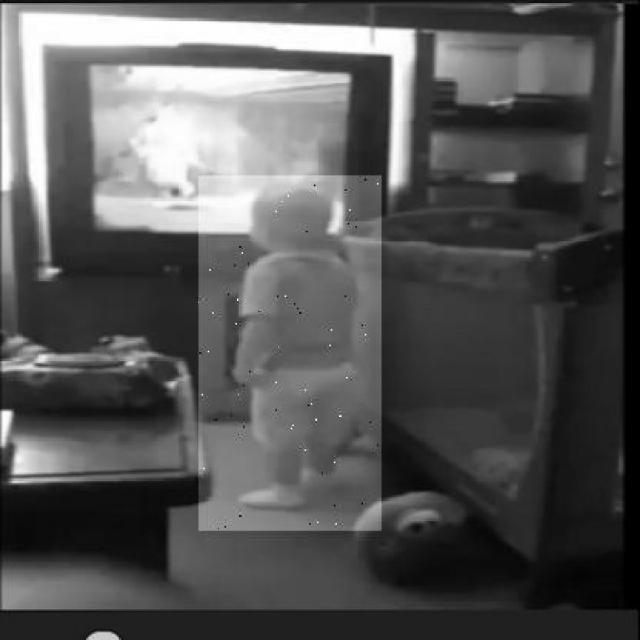child: (198, 175, 381, 531)
